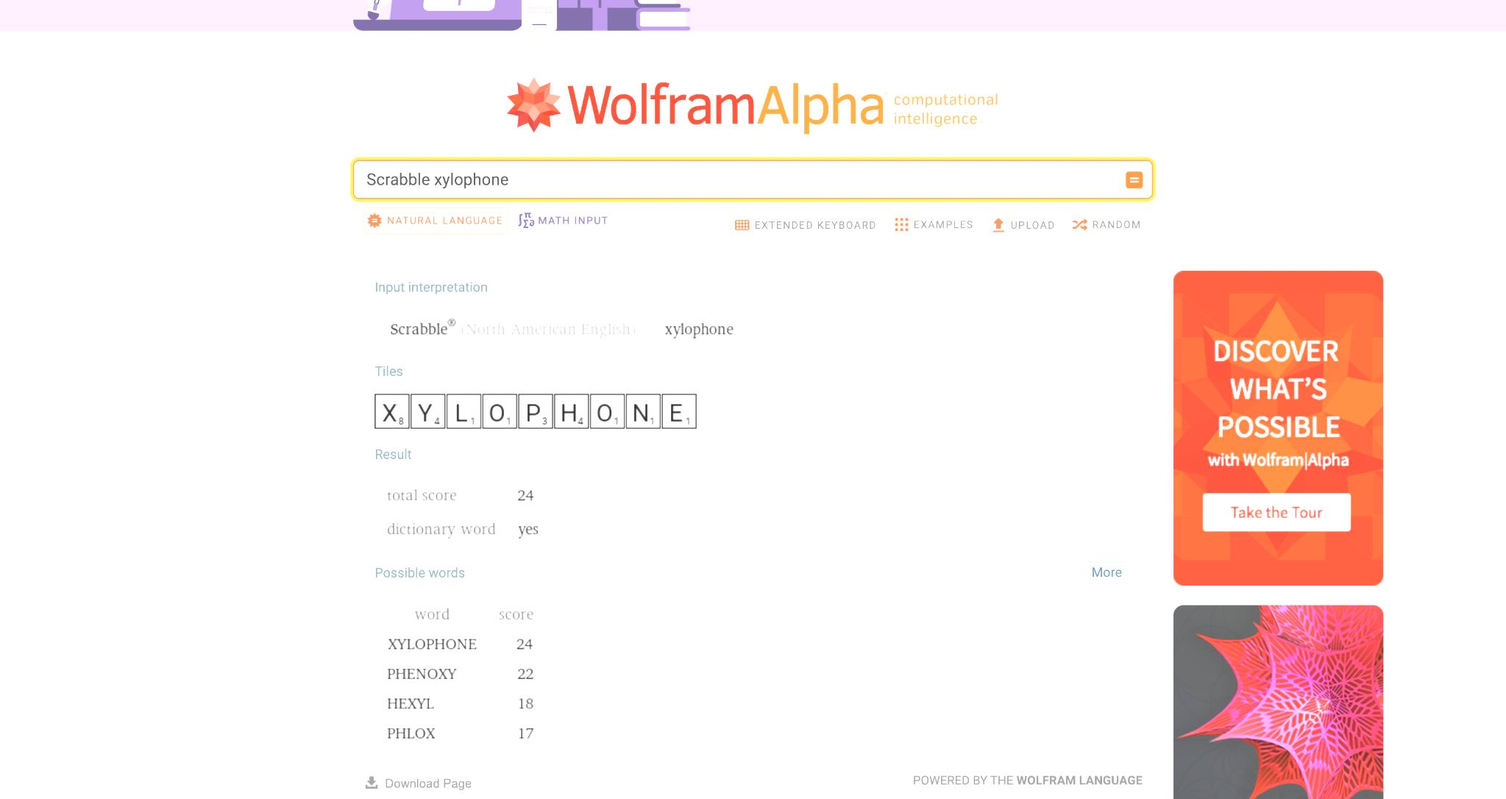webelement: (1174, 270, 1384, 585), (504, 30, 1002, 159), (1174, 605, 1384, 799), (361, 160, 1118, 198), (504, 76, 1002, 133), (374, 595, 548, 752), (374, 308, 748, 347), (375, 475, 554, 546), (374, 392, 697, 429), (903, 759, 1153, 799), (724, 205, 883, 247), (358, 201, 508, 238), (353, 759, 482, 799), (913, 770, 1143, 790), (884, 203, 981, 247), (509, 201, 614, 238), (1063, 203, 1149, 247), (981, 205, 1063, 247), (1016, 773, 1141, 787), (375, 280, 487, 294), (387, 213, 502, 225), (374, 564, 464, 579), (754, 219, 876, 230), (385, 776, 472, 790), (538, 213, 608, 225), (913, 218, 973, 230), (1091, 563, 1122, 582), (1093, 218, 1141, 230), (374, 447, 411, 461), (1010, 219, 1055, 230), (374, 363, 403, 378), (515, 209, 535, 229), (1125, 169, 1144, 189)
